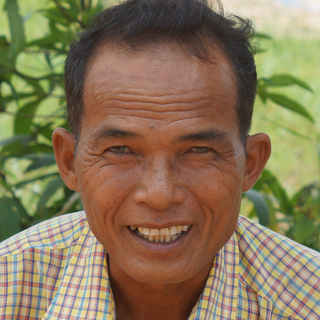eye: (178, 140, 225, 164), (95, 140, 143, 163)
